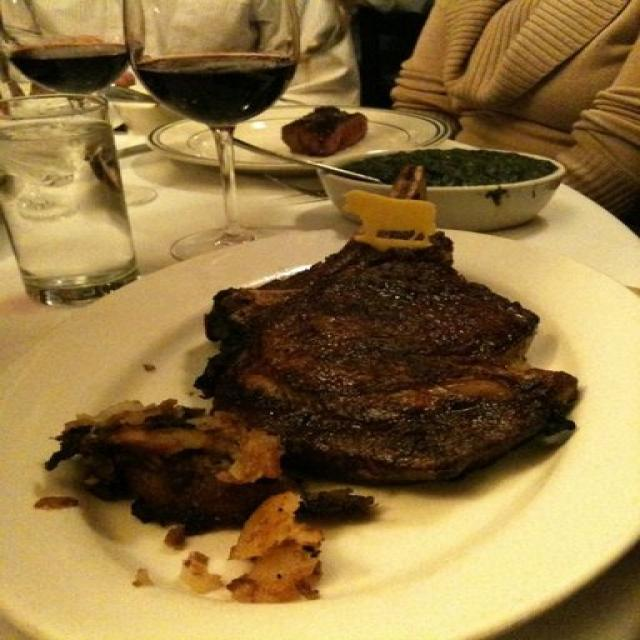Steak: (208, 226, 580, 495)
